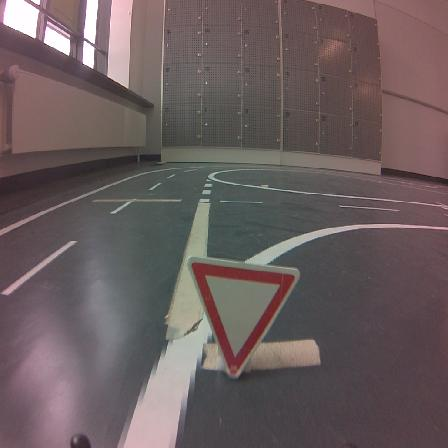GIVE_WAY: (188, 257, 299, 377)
